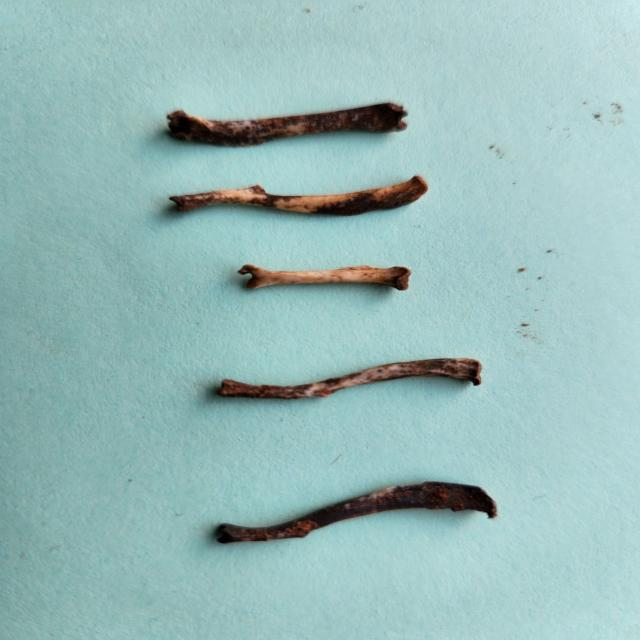fossil: (196, 470, 506, 555), (200, 346, 503, 415), (152, 171, 447, 228), (157, 97, 423, 160), (233, 254, 422, 300)
